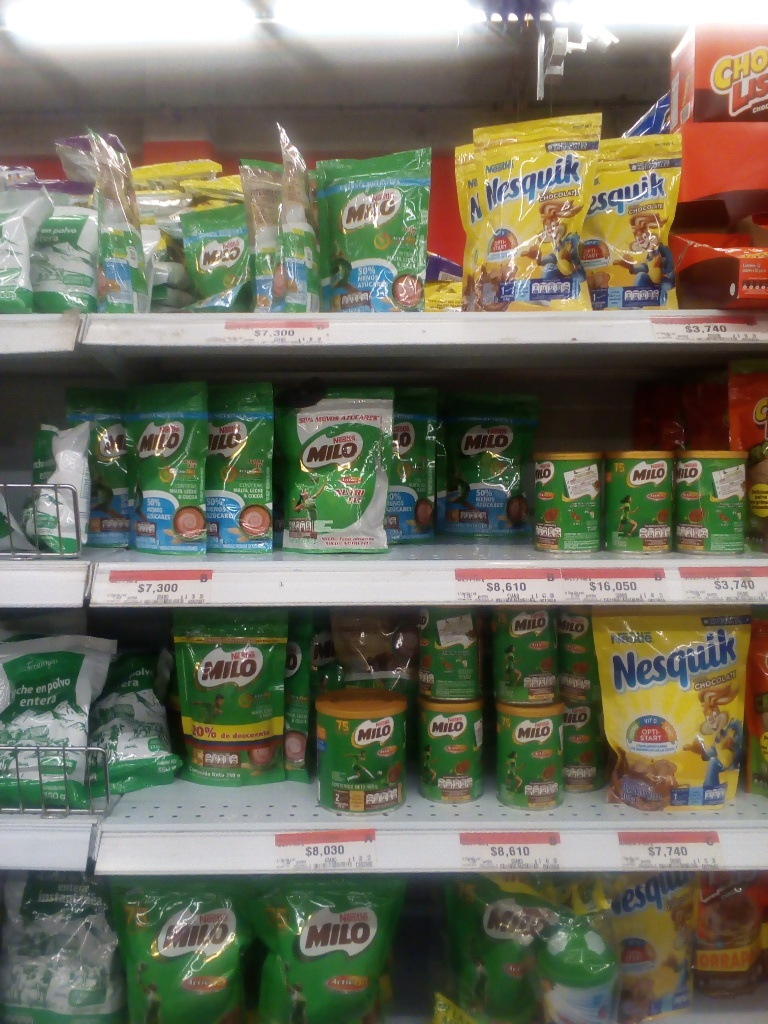COL0170203DYP25000: (275, 382, 378, 550)
COL0170203DYP50000: (116, 878, 254, 1024)
COL0170203LAT20000: (535, 437, 606, 561)
COL0170203LAT40000: (313, 696, 409, 811)
COL0170205DYP20000: (71, 377, 133, 552)
COL0170303DYP20000: (455, 114, 607, 315)
